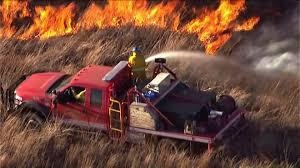fire: (183, 0, 259, 54), (1, 0, 79, 41)
